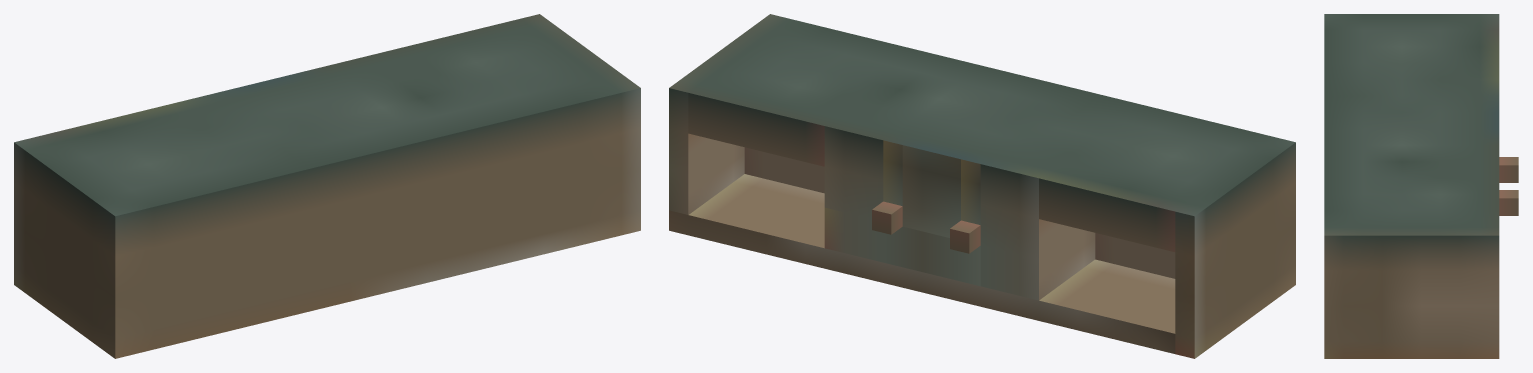
The model's file is CabinetDarkGreenWide_02.obj.
The picture shows the model from 3 angles, left to right: view 1: azimuth 30°, elevation 25°; view 2: azimuth 150°, elevation 25°; view 3: azimuth 270°, elevation 25°; orthographic projection. The views are drawn at different scales.
Visible parts, largest first — view 1: CabinetDarkGreenWide_02; view 2: CabinetDarkGreenWide_02; view 3: CabinetDarkGreenWide_02.
Part boxes in pixels (x1=…): CabinetDarkGreenWide_02: x1=14, y1=14, x2=640, y2=358; CabinetDarkGreenWide_02: x1=669, y1=14, x2=1295, y2=358; CabinetDarkGreenWide_02: x1=1324, y1=14, x2=1518, y2=358.
Size of the model in its own units: 1.35 by 0.35 by 0.5.
